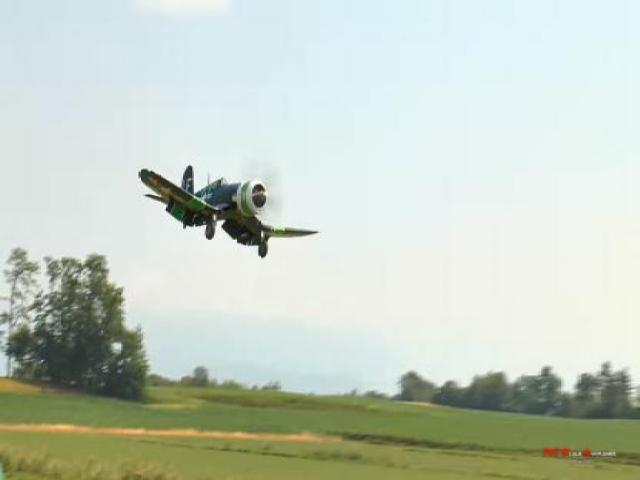uav: (134, 153, 323, 261)
